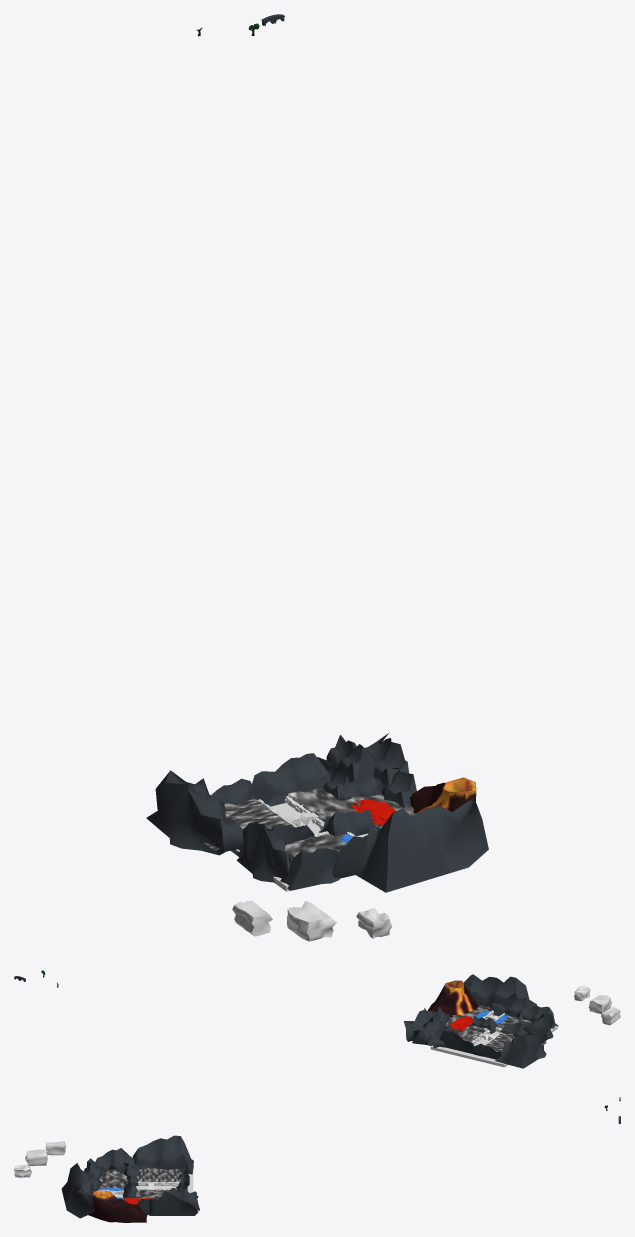
Rendered from Environment7_1.FBX.
3 renders of one model, top to bottom at view 1: azimuth 30°, elevation 25°; view 2: azimuth 150°, elevation 25°; view 3: azimuth 270°, elevation 25°, orthographic. The views are drawn at different scales.
Parts seen in each view (by area): view 1: MountainR007, MountainR005, MountainTL001, Sphere002, MountainR011, Volcano001, MountainR012, Plane003, Box533, MountainTR002, Plane001; view 2: MountainR007, MountainR005, Volcano001, Shape221, MountainL005, MountainR012, MountainTL001, MountainTR002, Sphere002, MountainR011, Box533, Plane003 (+9 smaller); view 3: MountainR005, MountainR007, Volcano001, MountainTR002, Sphere002, Plane001, Plane004, Box533, MountainR012, MountainR006, Box535, Plane003 (+3 smaller).
Part boxes in pixels (x1,y1,x2,y2): MountainR007: [356, 800, 488, 892]; MountainR005: [146, 770, 243, 855]; MountainTL001: [252, 753, 330, 806]; Sphere002: [236, 822, 294, 882]; MountainR011: [280, 848, 339, 890]; Volcano001: [410, 777, 476, 813]; MountainR012: [326, 735, 377, 782]; Plane003: [287, 787, 408, 821]; Box533: [287, 901, 336, 941]; MountainTR002: [365, 732, 409, 790]; Plane001: [204, 799, 294, 850]; MountainR007: [463, 974, 529, 1012]; MountainR005: [495, 1028, 546, 1068]; Volcano001: [427, 980, 478, 1017]; Shape221: [430, 1015, 557, 1067]; MountainL005: [488, 998, 536, 1019]; MountainR012: [412, 1015, 443, 1045]; MountainTL001: [439, 1030, 474, 1054]; MountainTR002: [403, 1008, 440, 1041]; Sphere002: [523, 1012, 553, 1040]; MountainR011: [520, 1006, 558, 1028]; Box533: [588, 994, 611, 1014]; Plane003: [446, 1020, 488, 1041]; MountainR005: [132, 1135, 193, 1174]; MountainR007: [61, 1163, 94, 1218]; Volcano001: [88, 1190, 147, 1222]; MountainTR002: [149, 1193, 198, 1215]; Sphere002: [95, 1148, 135, 1173]; Plane001: [136, 1167, 181, 1182]; Plane004: [97, 1169, 128, 1190]; Box533: [25, 1149, 47, 1165]; MountainR012: [168, 1188, 199, 1210]; MountainR006: [124, 1159, 140, 1185]; Box535: [45, 1141, 65, 1155]; Plane003: [136, 1189, 170, 1199].
Size of the model in its own units: 1856 by 1085 by 3210.
